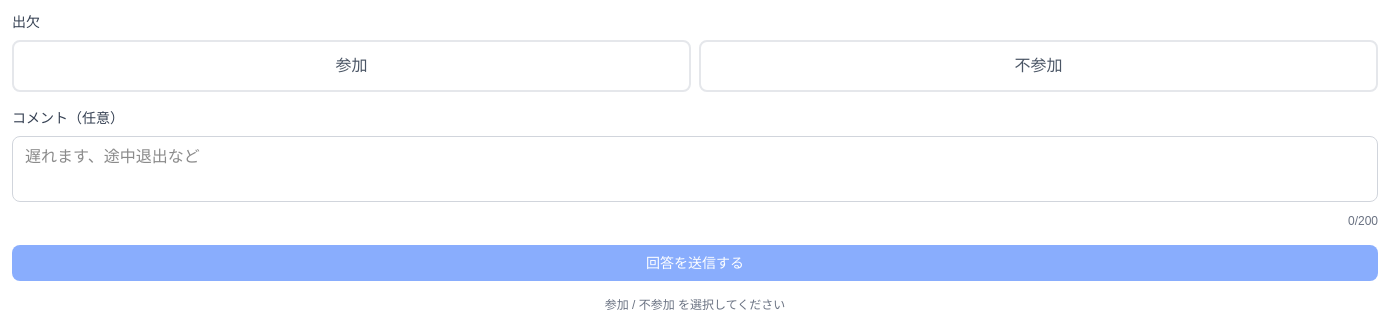
Scenario: AttendanceForm › 文字数カウンタが表示される
Expected: the text "0/200" is shown, 1348,214 -> 1378,228
In the text box with placeholder "遅れます、途中退出など": (695, 169) 12,136 -> 1378,202, type "abc"
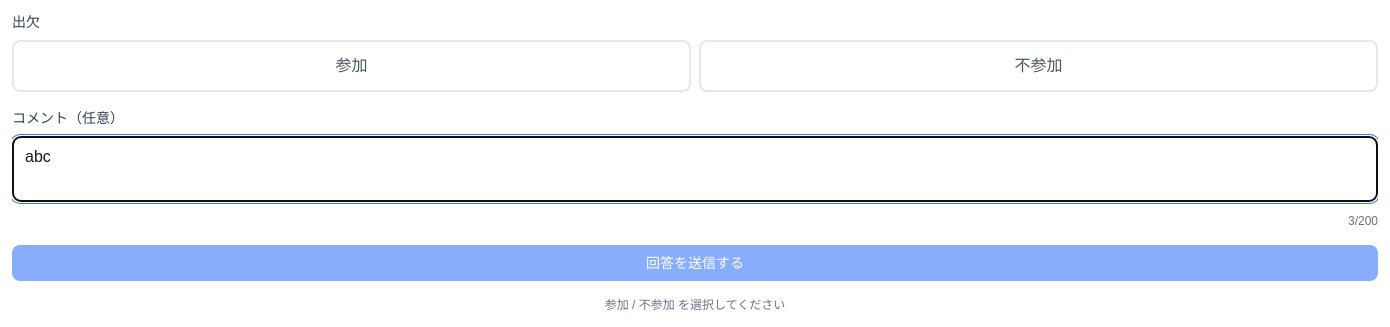
Expected: the text "3/200" is shown, 1348,214 -> 1378,228
